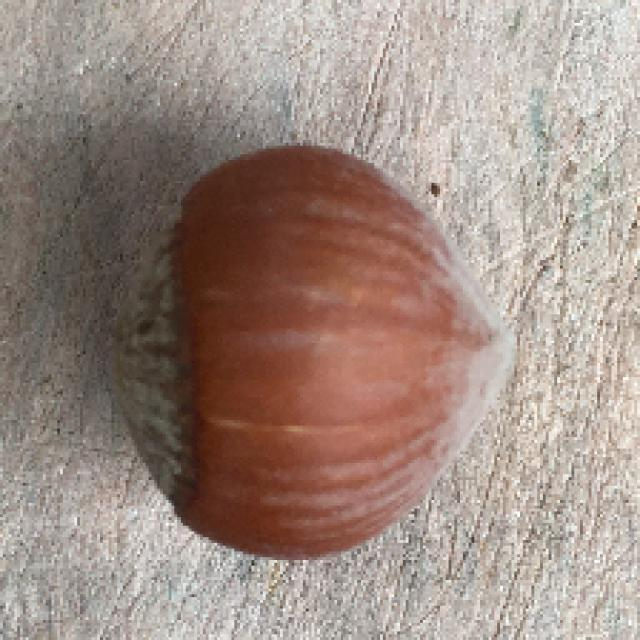hazelnut: (113, 149, 521, 568)
